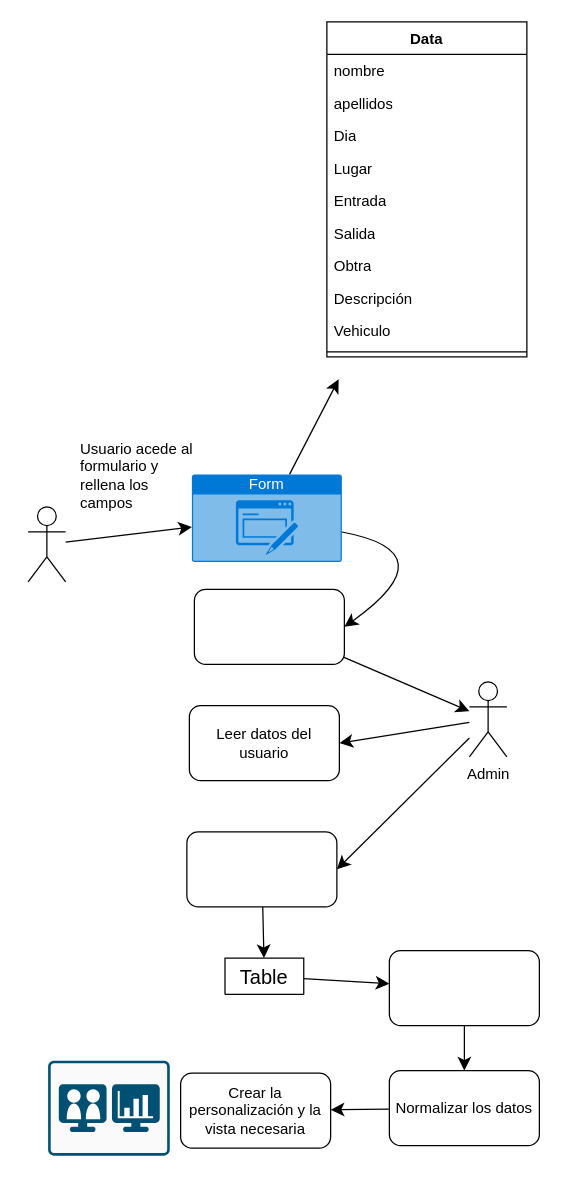
Some shapes in this 561 by 1178 pixel diagram are drawn without their labels. The shapes that lost their labels are listed below. From the top down, each one's centre as x and y in pixels, then its label:
At (x=46, y=544): "Usuario".
At (x=268, y=626): "Respuestas de los usuarios".
At (x=261, y=869): "Exportar los datos a formato Excell".
At (x=463, y=987): "Importar los datos a PowerBI (Get data)".
